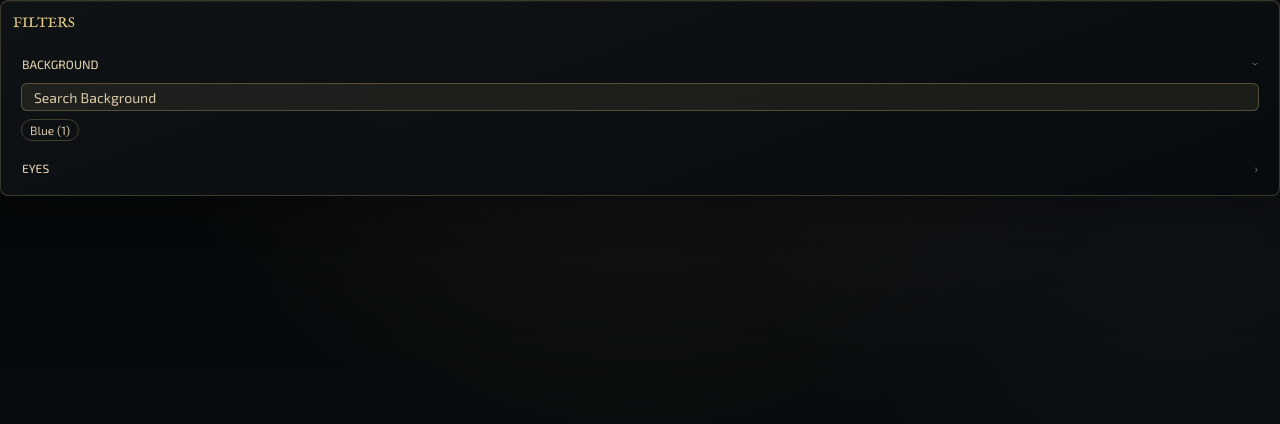
Test case: trait filter sidebar › only_one_trait_group_can_be_open_at_a_time
The image size is (1280, 424).
Check: the button "Blue (1)" is shown, box [21,119,79,141]
What coordinates should you click on to do the following:
click the button "Eyes ›"
I would click on:
 (36, 168)
Its box is [13,153,1267,183].
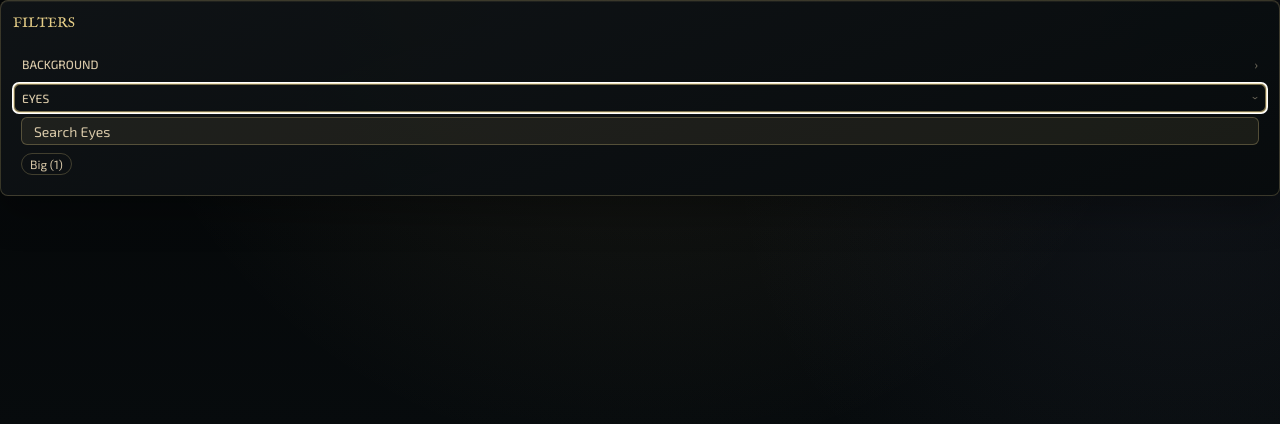
Check: the button "Blue (1)" is gone
Check: the button "Big (1)" is shown, box [21,153,72,175]
